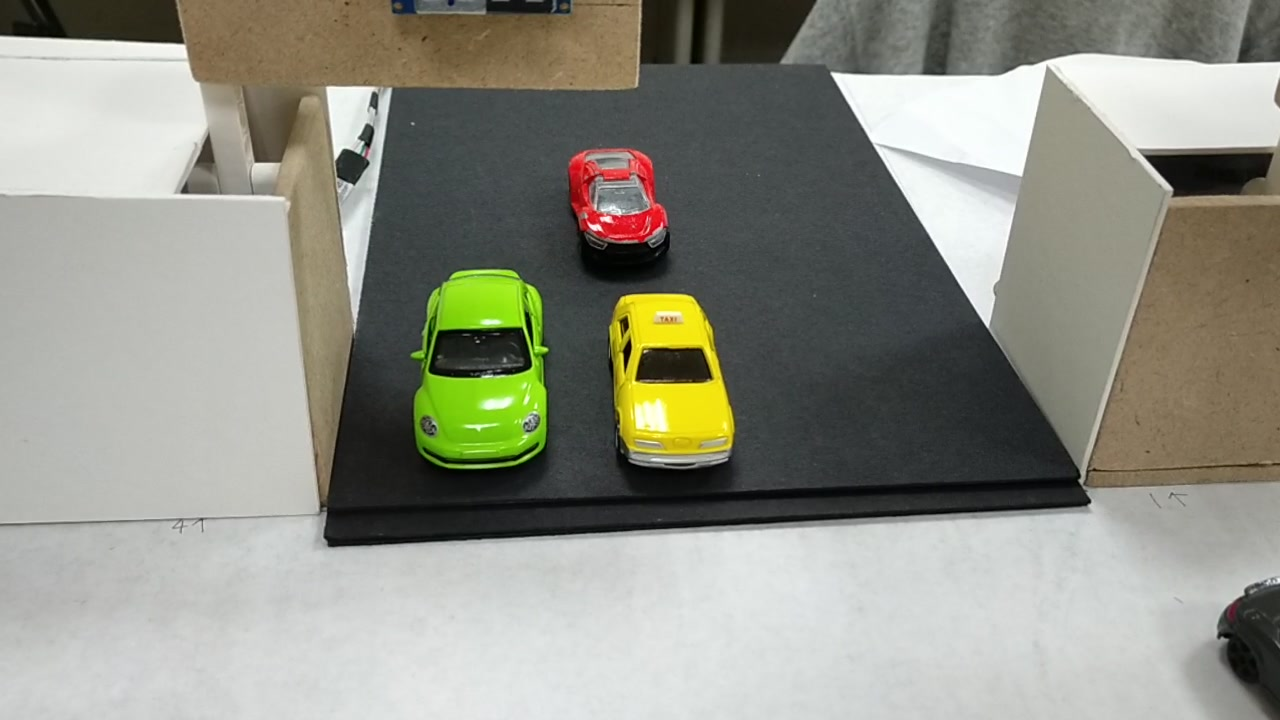car: (423, 280, 545, 464), (609, 293, 734, 464), (572, 151, 669, 253)
